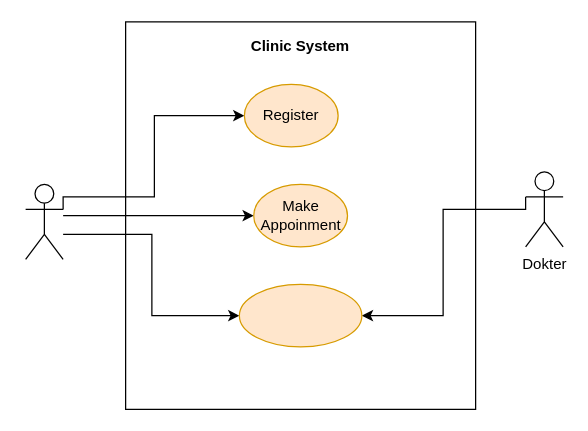
Some shapes in this 588 by 431 pixel diagram are drawn without their labels. Each missing label, with the centre of its shape:
Add Medical Record: the point at 300,315
Pasien: the point at 43,221
